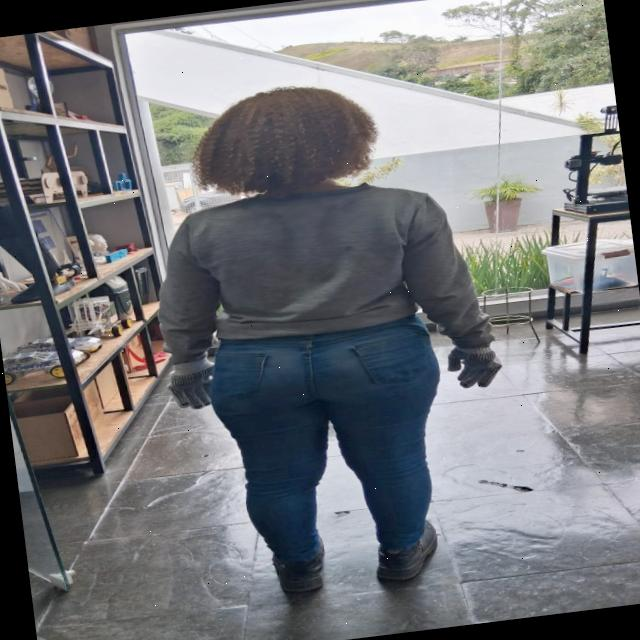BOTA: (366, 516, 450, 587), (270, 532, 325, 601)
LUVA: (161, 355, 224, 413), (443, 335, 503, 393)
